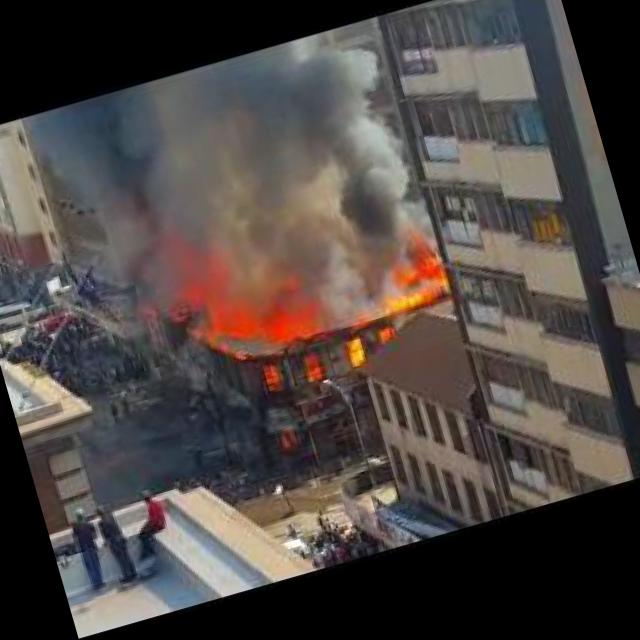fire: (154, 258, 472, 415)
smoke: (22, 14, 444, 358)
